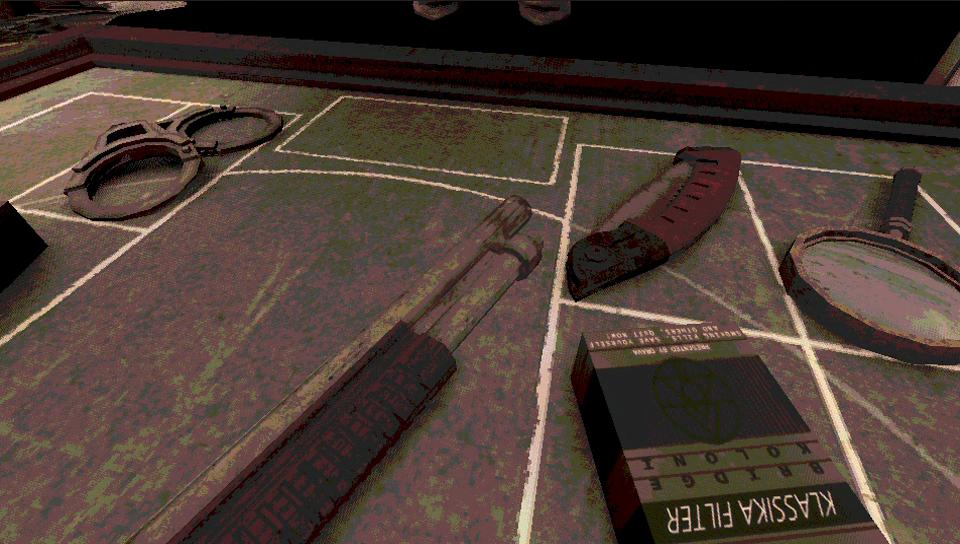cigar: (570, 320, 895, 543)
doubledamage: (567, 143, 741, 299)
gun: (129, 192, 541, 543)
handcuff: (59, 100, 284, 215)
lens: (776, 166, 959, 356)
